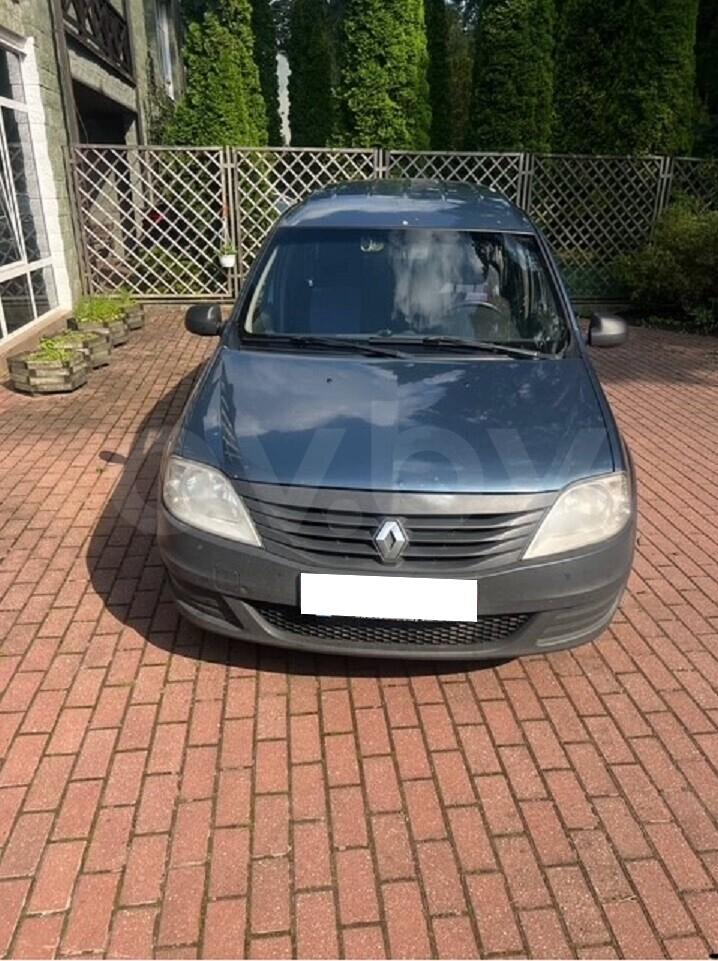Logan_2008-2015: (147, 180, 648, 688)
